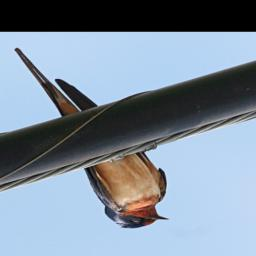Swallow: (13, 47, 170, 230)
